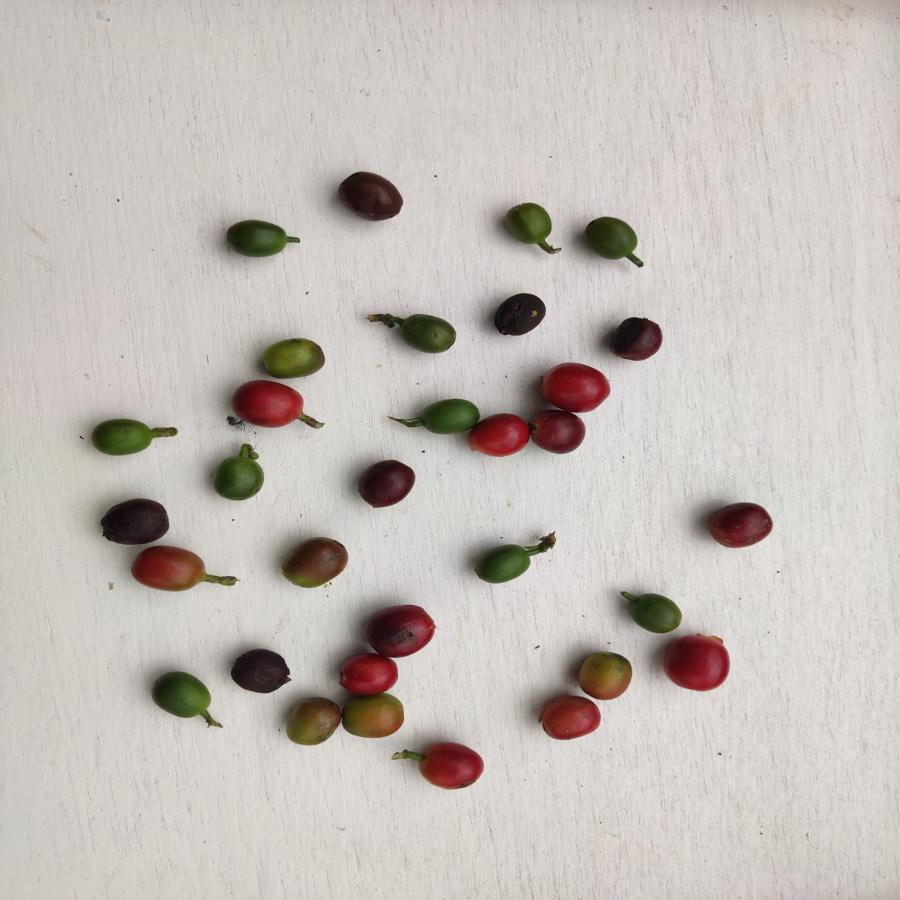Inmaduro: (392, 308, 459, 360), (150, 670, 219, 719), (226, 215, 294, 264), (585, 214, 640, 267), (214, 443, 265, 500), (503, 201, 566, 246), (87, 419, 158, 458), (414, 397, 481, 438), (626, 586, 684, 632), (476, 546, 533, 584)
Maduro: (662, 631, 737, 697), (528, 362, 616, 411), (232, 379, 306, 431), (411, 742, 487, 790), (537, 694, 602, 741), (473, 410, 533, 460), (333, 654, 401, 696)
Pinton: (281, 534, 350, 589), (339, 693, 409, 742), (132, 547, 205, 592), (263, 331, 326, 378), (573, 651, 633, 699), (286, 698, 339, 745)
Sobremaduro: (361, 601, 438, 658), (699, 502, 780, 553), (99, 497, 171, 549), (337, 172, 410, 221), (352, 459, 419, 506), (222, 648, 290, 691), (527, 412, 588, 457), (613, 315, 665, 365), (496, 287, 550, 335)
